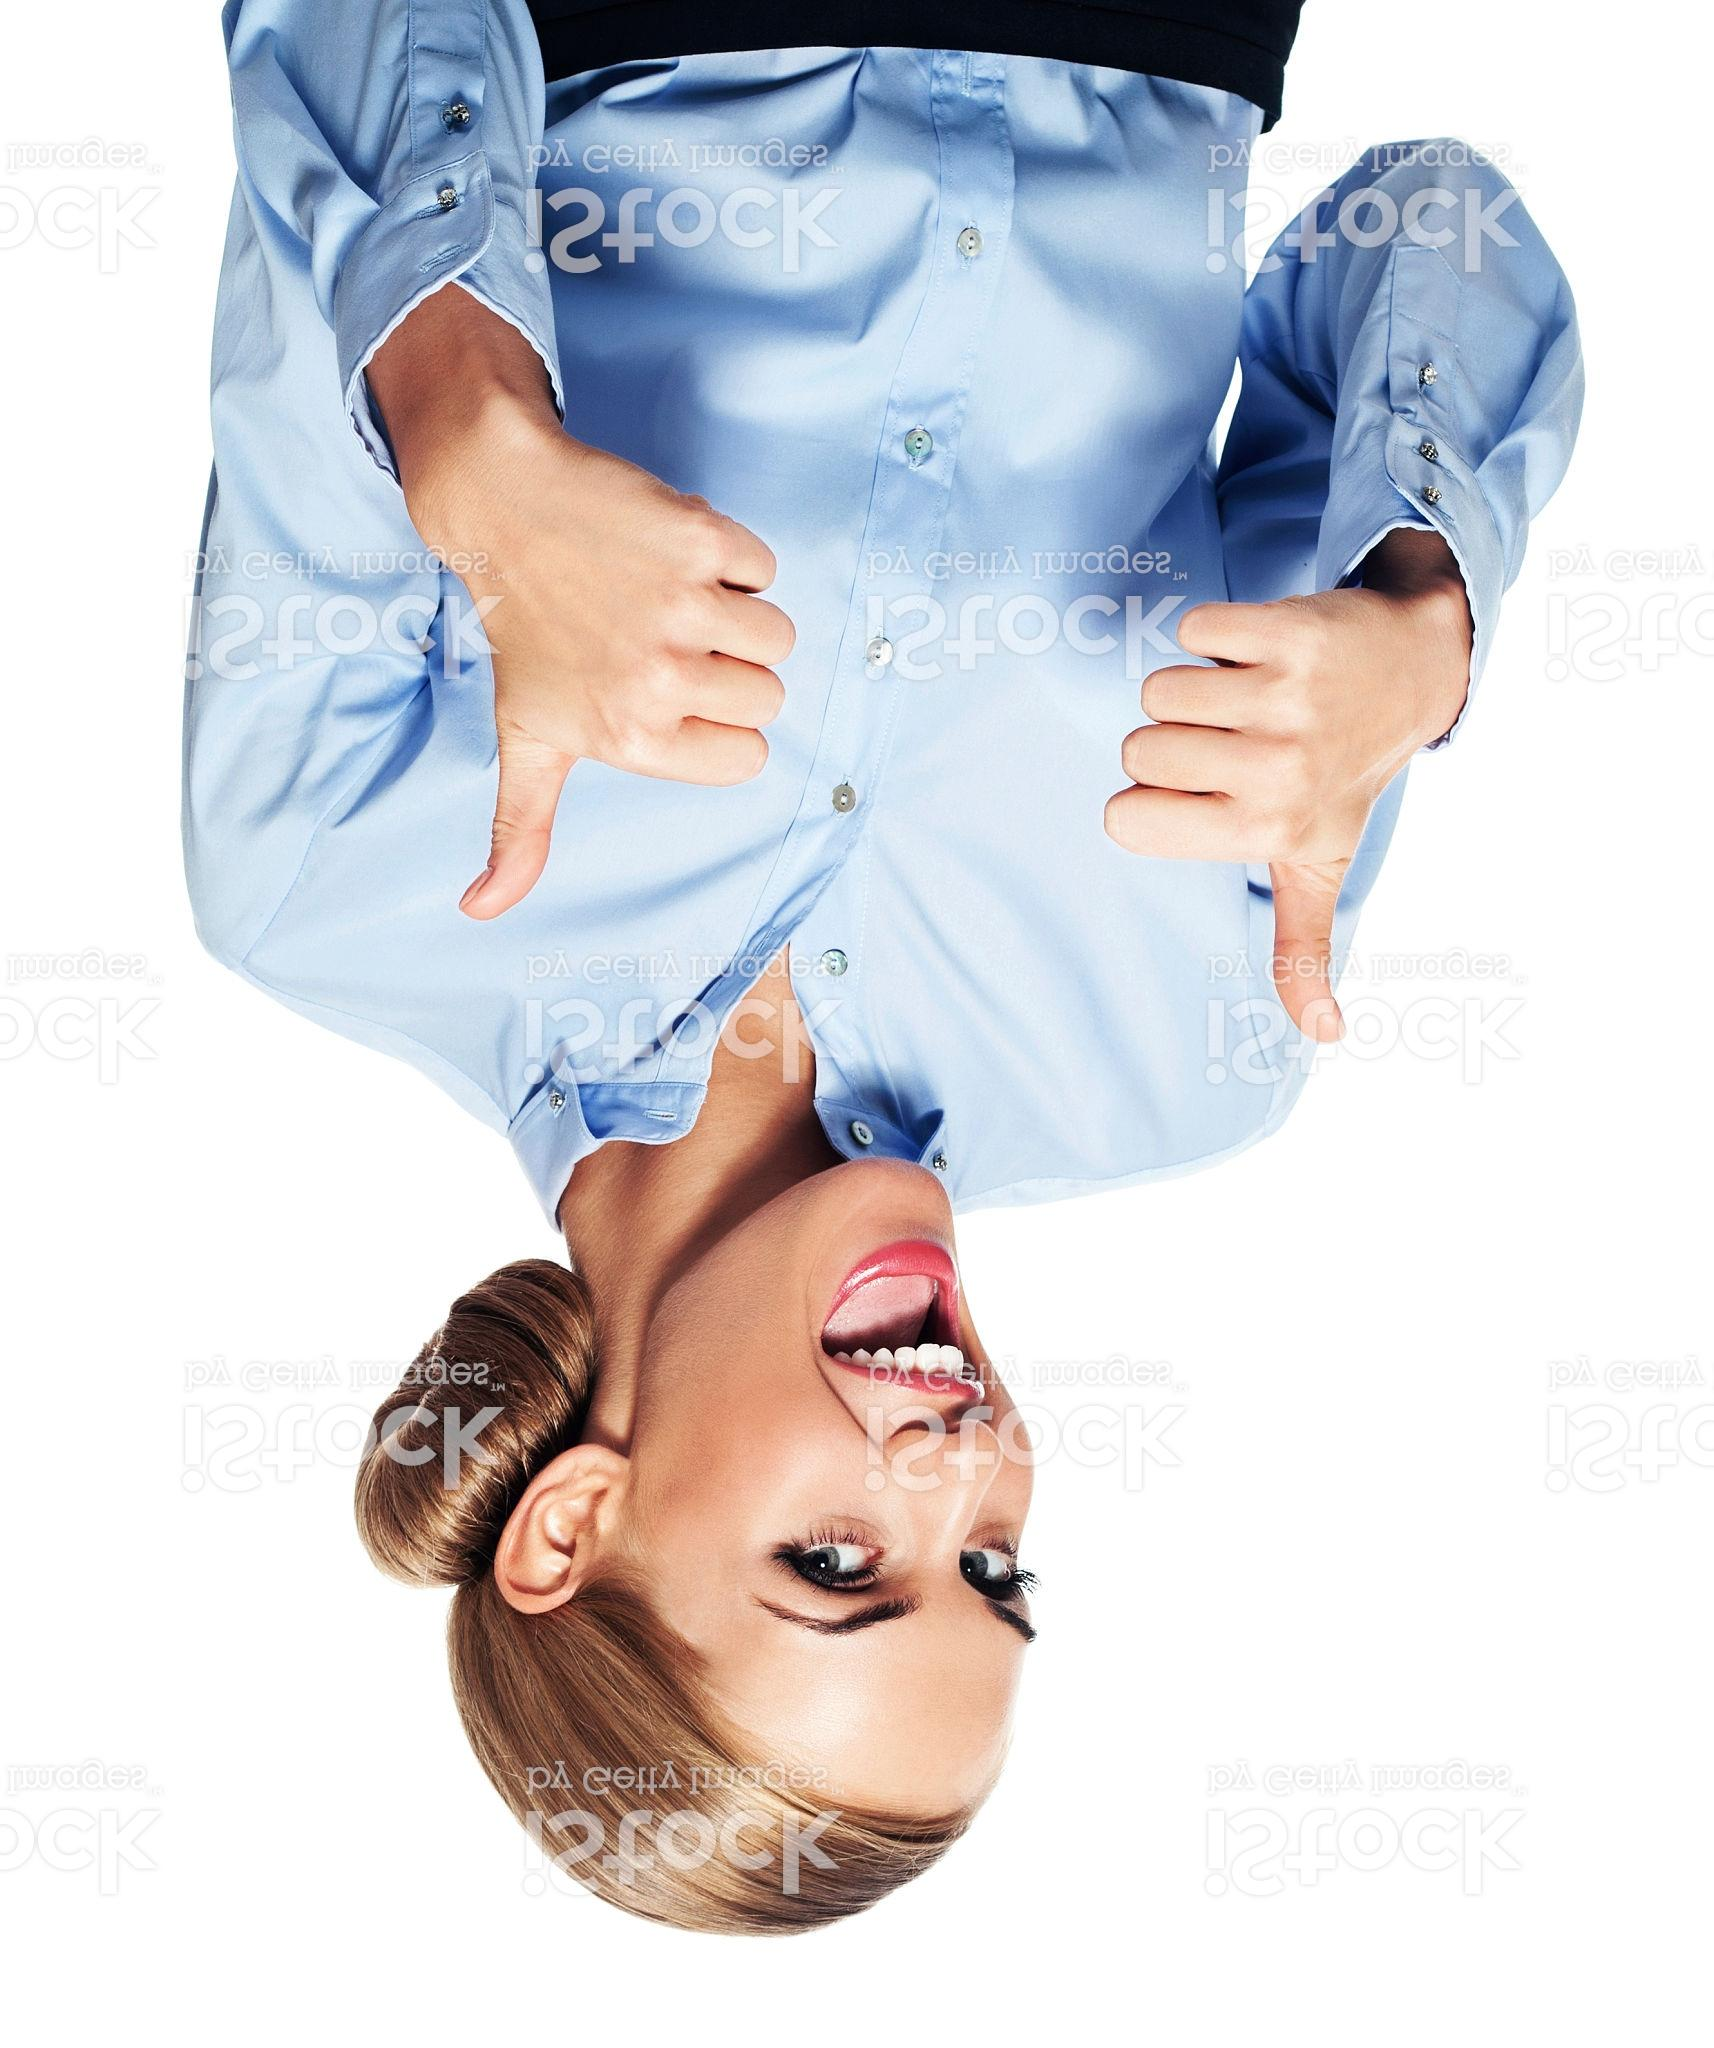thumbsdown: (456, 439, 799, 925), (1095, 580, 1403, 1048)
